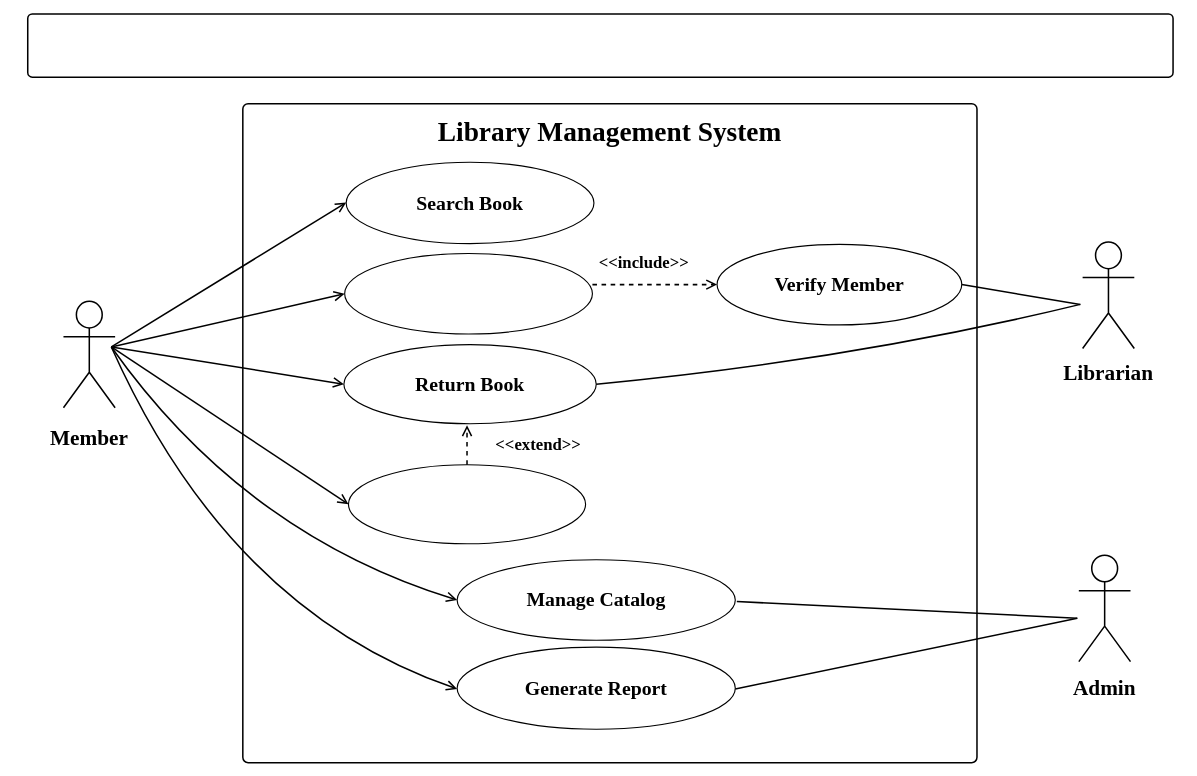
This 1197x776 diagram has some shape labels left out. The shapes that lost their labels are listed below. From the top down, each one's box as (x1, y1, x2, y2) in pixels, then its label:
(27, 13, 1173, 78): Q1. Library Management System – Use Case Diagram
(344, 253, 593, 334): Issue Book
(348, 464, 586, 544): Pay Fine
